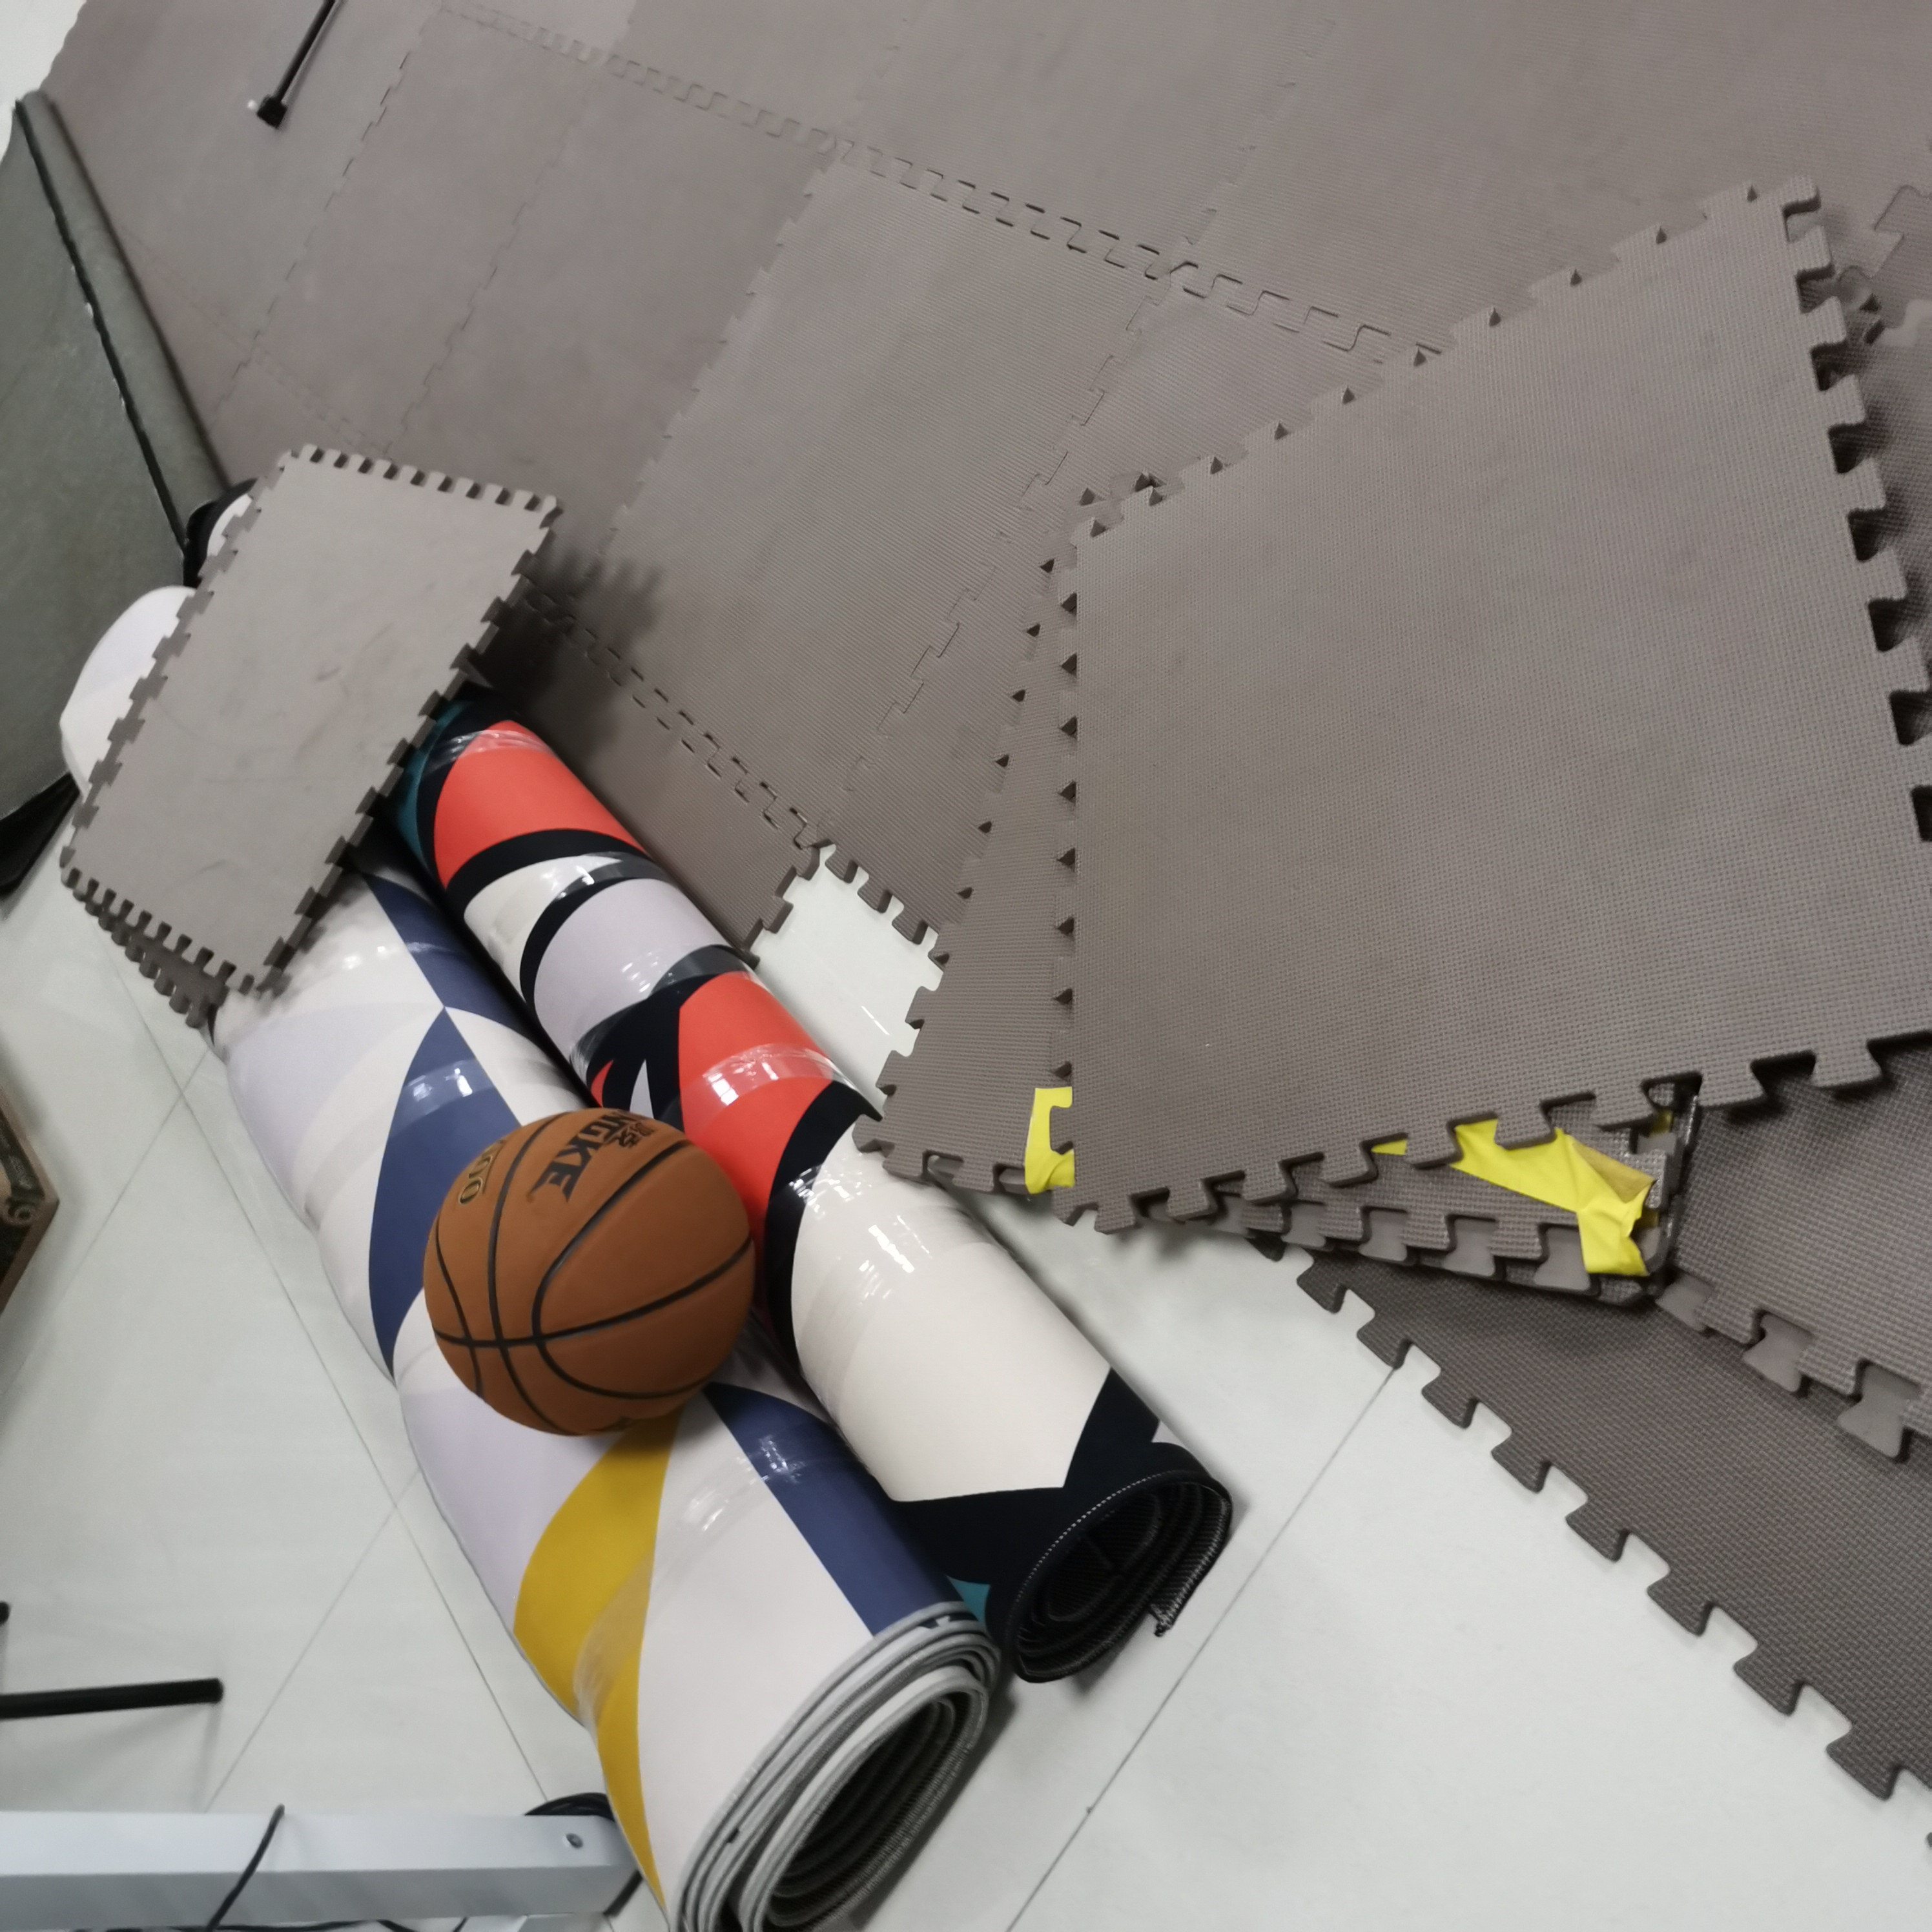basketball: (425, 1108, 754, 1437)
